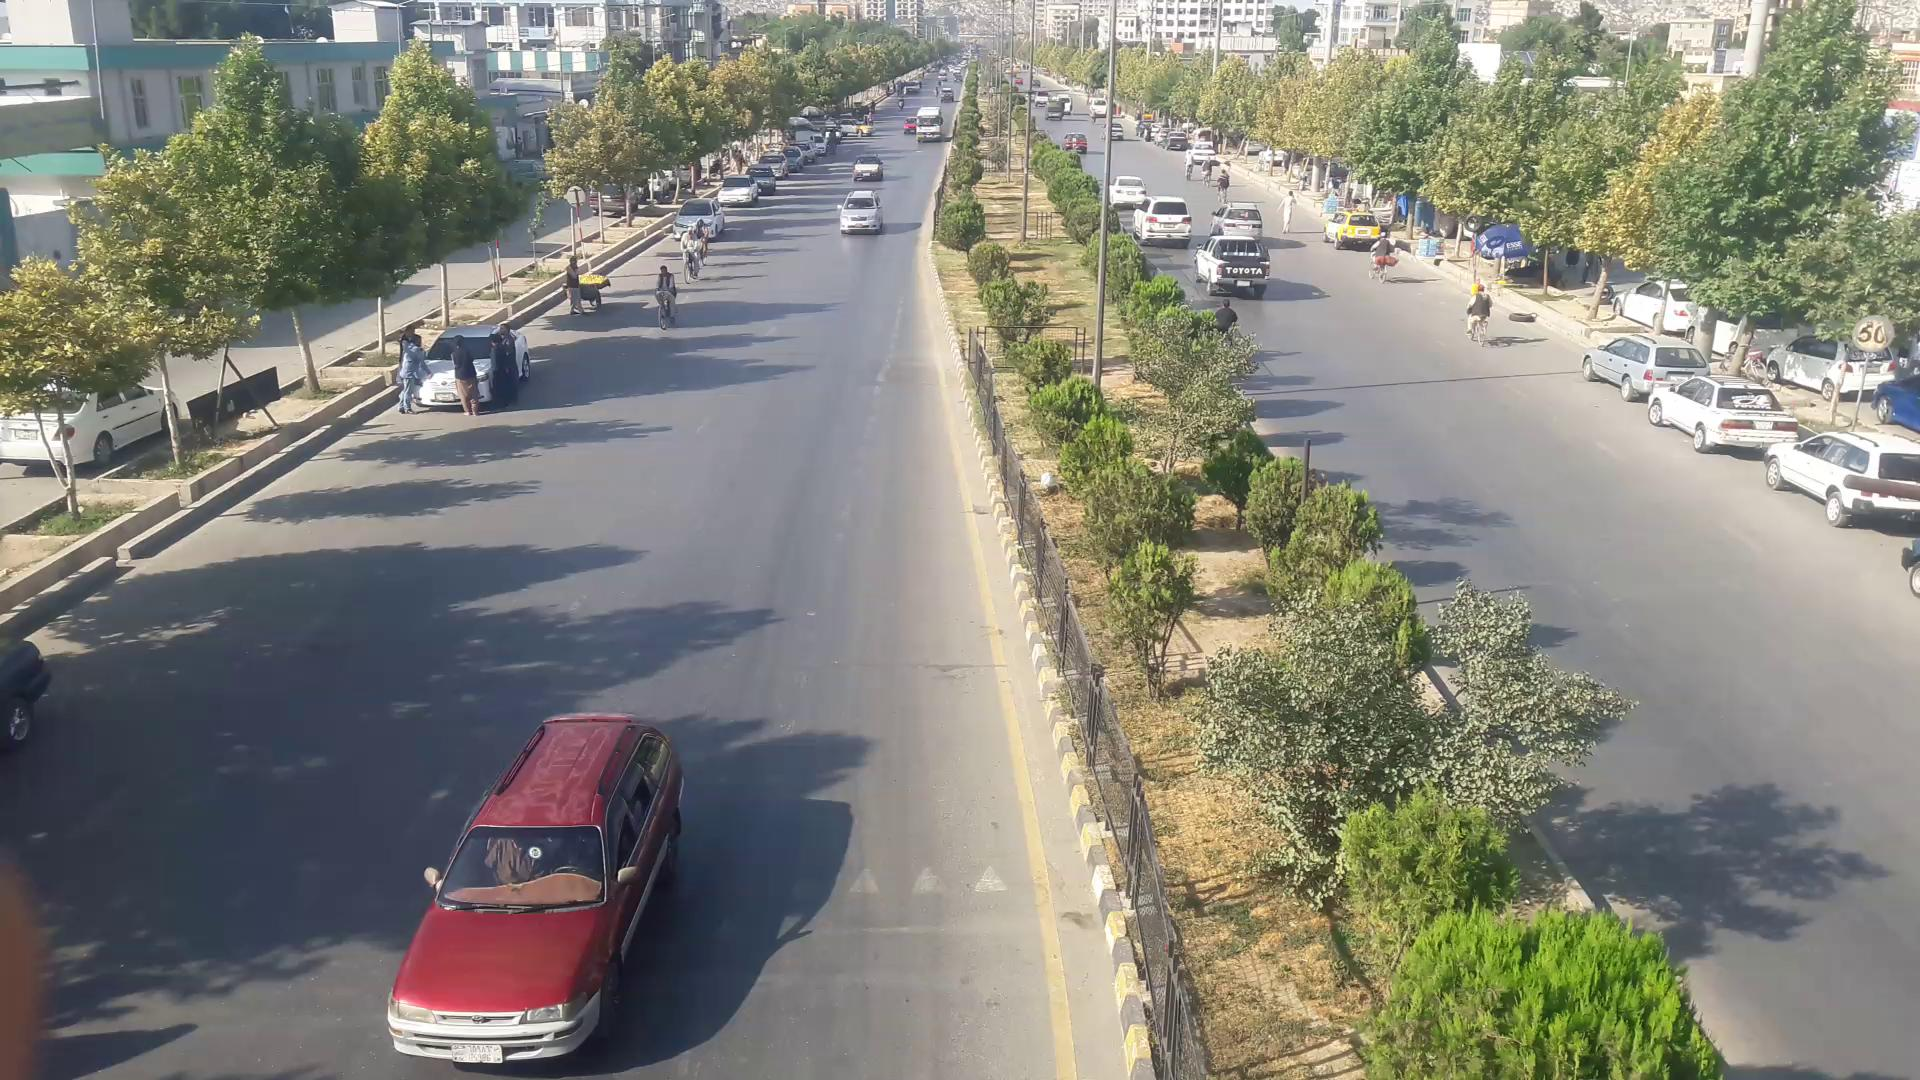car: (386, 709, 687, 1060), (1768, 422, 1920, 541), (1651, 376, 1805, 452), (1582, 340, 1720, 405), (1207, 240, 1271, 285), (673, 202, 725, 241), (1139, 200, 1191, 240), (1328, 219, 1386, 251), (844, 193, 886, 231), (1216, 207, 1265, 237), (716, 183, 758, 208), (748, 165, 777, 195), (853, 156, 884, 179)
